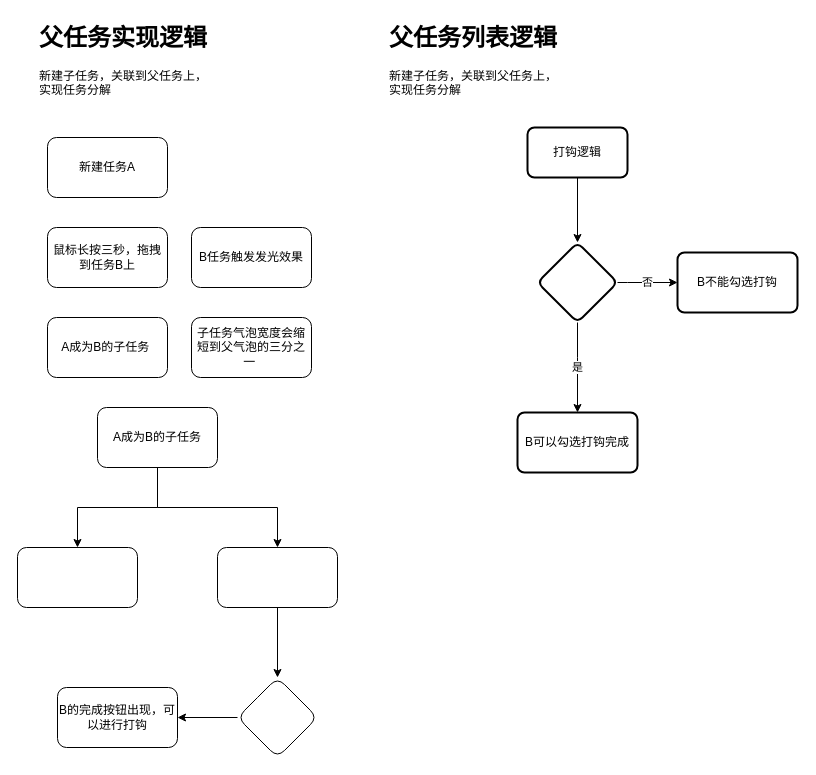
This 816x775 diagram has some shape labels left out. Each missing label, with the centre of its shape:
"不可以给B打钩" belongs at [277,577].
"可以给A打钩" belongs at [77,577].
"如果A完成了" belongs at [277,717].
"是否全部 子任务完成" belongs at [577,282].
